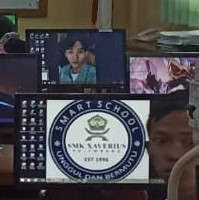monitor: (13, 92, 158, 187), (25, 28, 128, 93), (125, 52, 199, 95), (0, 53, 40, 124)
